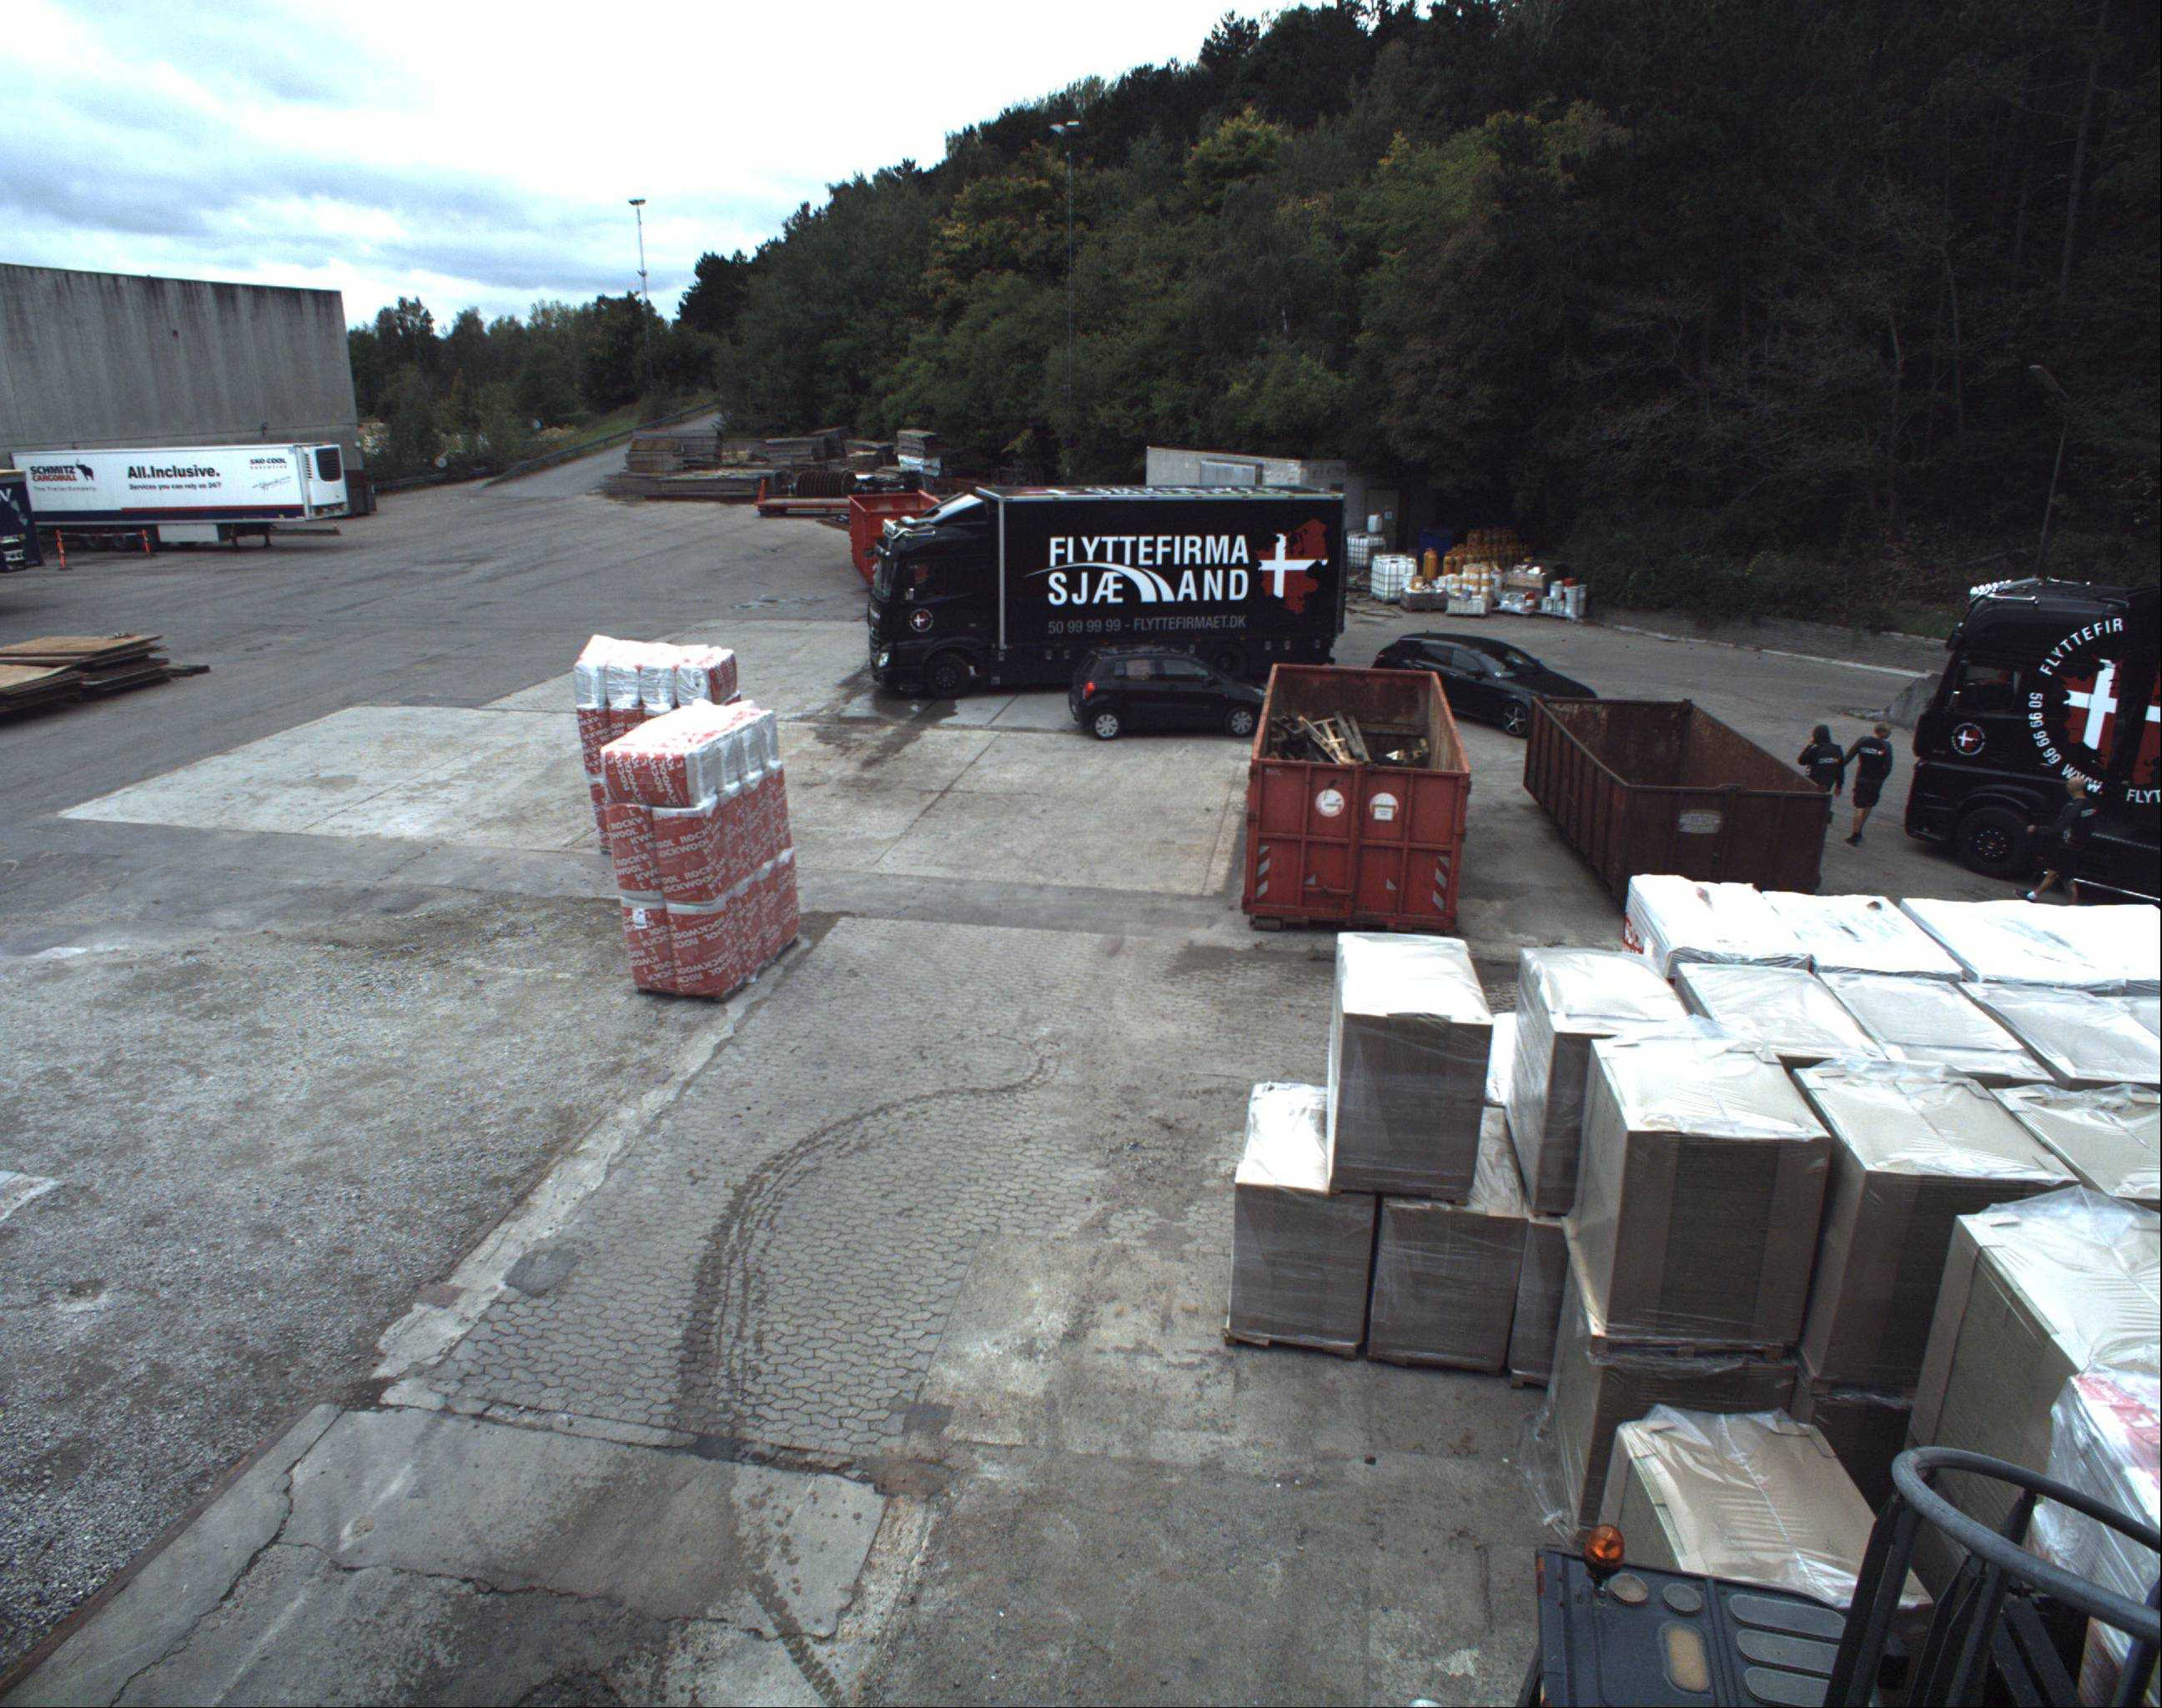rockwool_batts: (591, 695, 795, 990), (588, 620, 735, 779)
